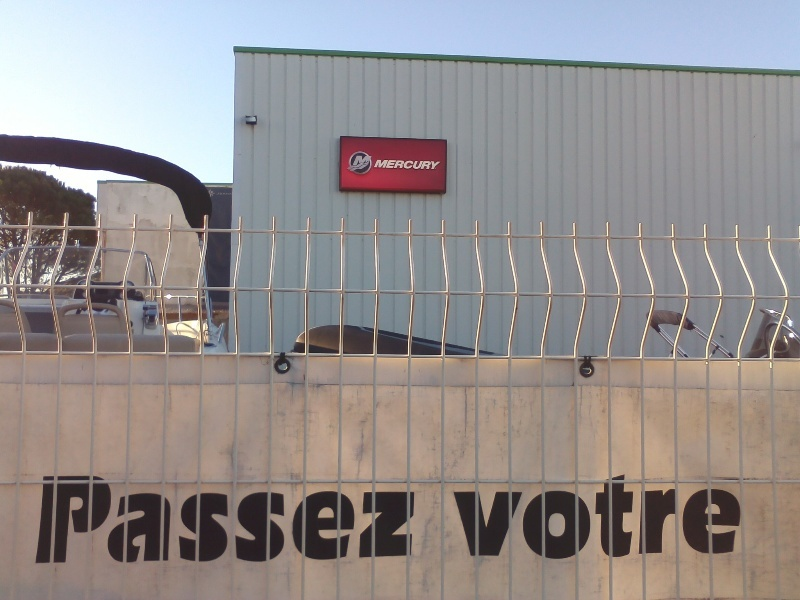text: (49, 476, 64, 566), (65, 476, 80, 566), (81, 476, 96, 566), (97, 476, 112, 566), (113, 476, 128, 566), (129, 476, 144, 566), (145, 476, 160, 566), (161, 476, 176, 566), (177, 476, 192, 566), (193, 476, 208, 566), (209, 476, 224, 566), (225, 476, 240, 566), (241, 476, 256, 566), (257, 476, 272, 566), (273, 476, 288, 566), (289, 476, 304, 566), (305, 476, 320, 566), (321, 476, 336, 566), (337, 476, 352, 566), (353, 476, 368, 566), (369, 476, 384, 566), (385, 476, 400, 566), (401, 476, 416, 566), (465, 474, 480, 560), (481, 474, 496, 560), (497, 474, 512, 560), (513, 474, 528, 560), (529, 474, 544, 560), (545, 474, 560, 560), (561, 474, 576, 560), (577, 474, 592, 560), (593, 474, 608, 560), (609, 474, 624, 560), (625, 474, 640, 560), (641, 474, 656, 560), (657, 474, 672, 560), (673, 474, 688, 560), (689, 474, 704, 560), (705, 474, 720, 560), (721, 474, 736, 560), (451, 474, 464, 560), (737, 474, 743, 560), (43, 476, 48, 566), (385, 159, 400, 170), (401, 159, 416, 170), (417, 159, 432, 170), (356, 156, 368, 167), (433, 159, 442, 170), (377, 159, 384, 170), (369, 156, 372, 167)
